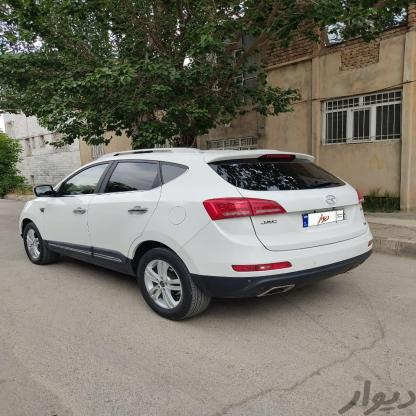Car: (2, 151, 374, 319)
